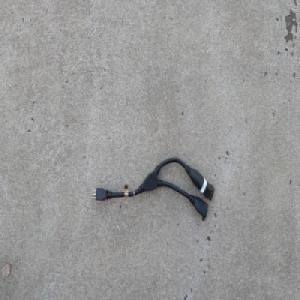Wire: (90, 156, 215, 221)
